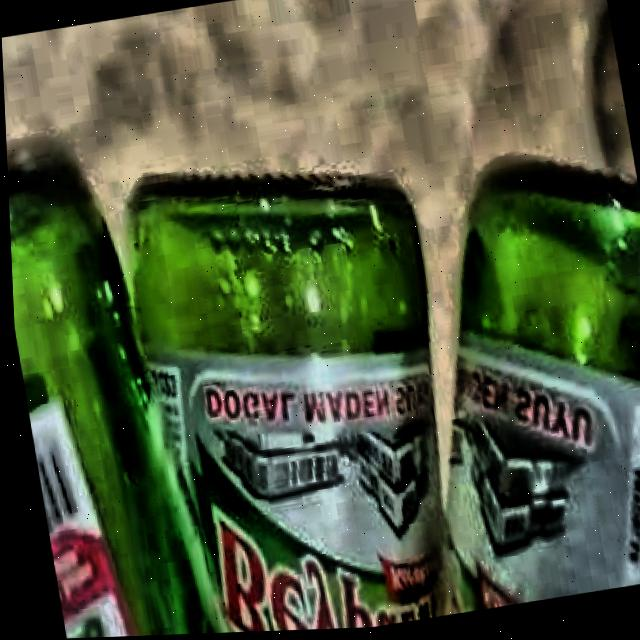glass: (5, 139, 640, 639)
